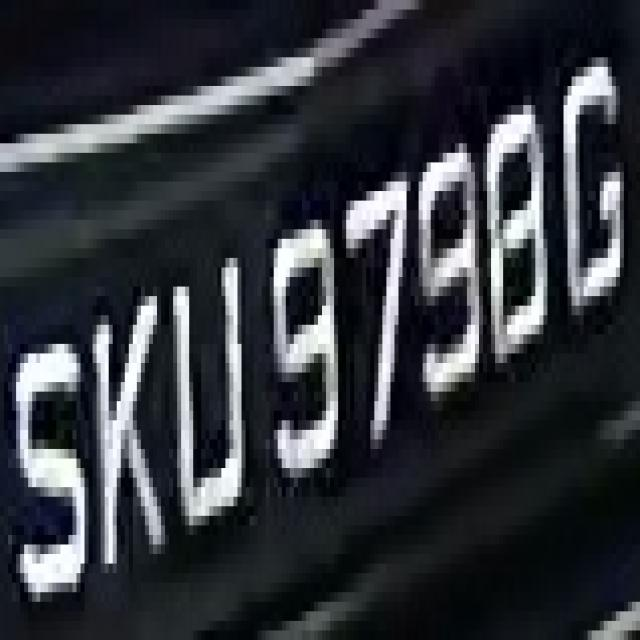7: (334, 143, 411, 468)
8: (483, 76, 551, 363)
9: (262, 182, 342, 496), (403, 115, 487, 401)
G: (555, 47, 628, 306)
K: (85, 268, 169, 592)
S: (12, 296, 89, 631)
U: (161, 239, 254, 525)
